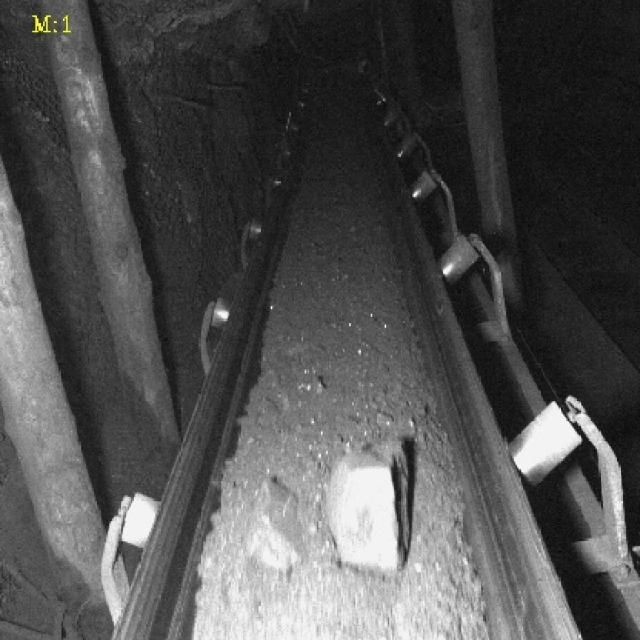large_sized_coal: (326, 445, 409, 577), (245, 474, 306, 572)
